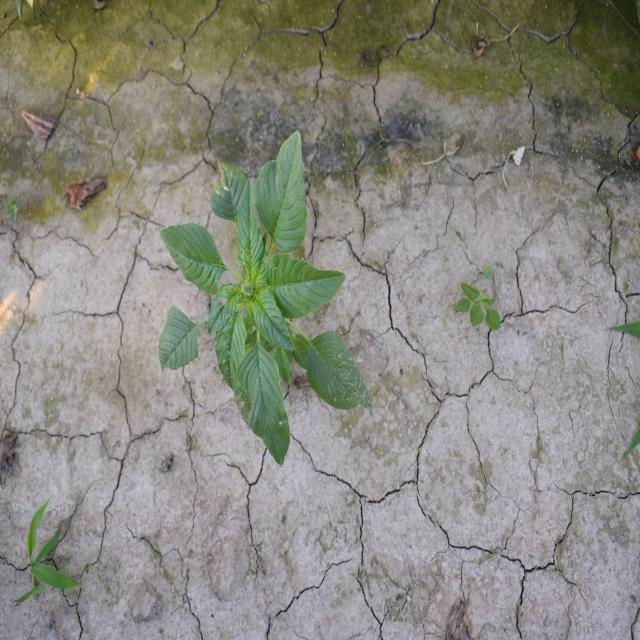PalmerAmaranth: (156, 128, 373, 468), (454, 264, 502, 334)
